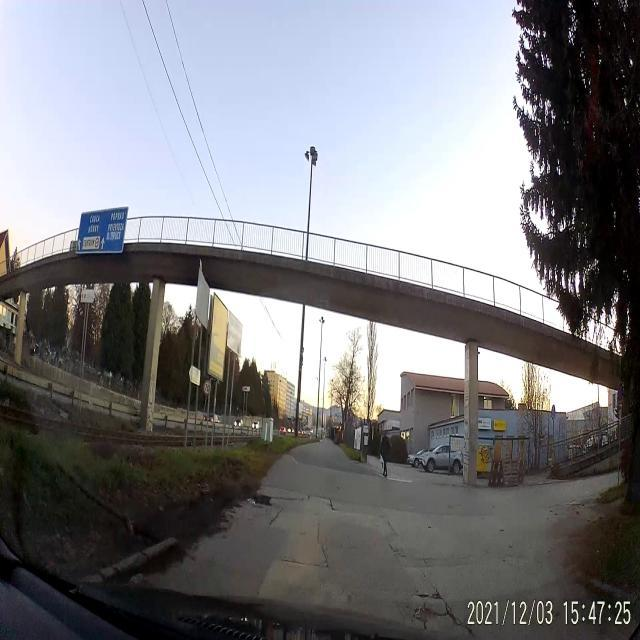Pothole: (408, 584, 470, 636), (242, 492, 272, 510)
